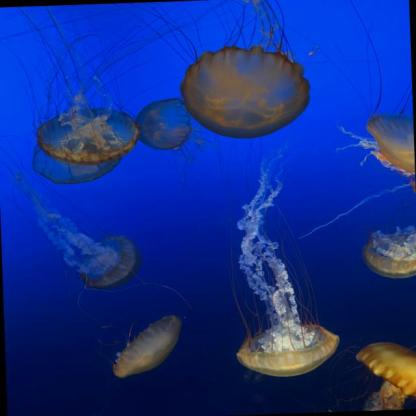jellyfish: (179, 43, 312, 140), (234, 321, 341, 379), (36, 107, 137, 165), (110, 314, 186, 379), (355, 340, 415, 408), (32, 142, 123, 185), (78, 233, 143, 293), (364, 113, 414, 177), (360, 224, 416, 281), (134, 97, 193, 150)
